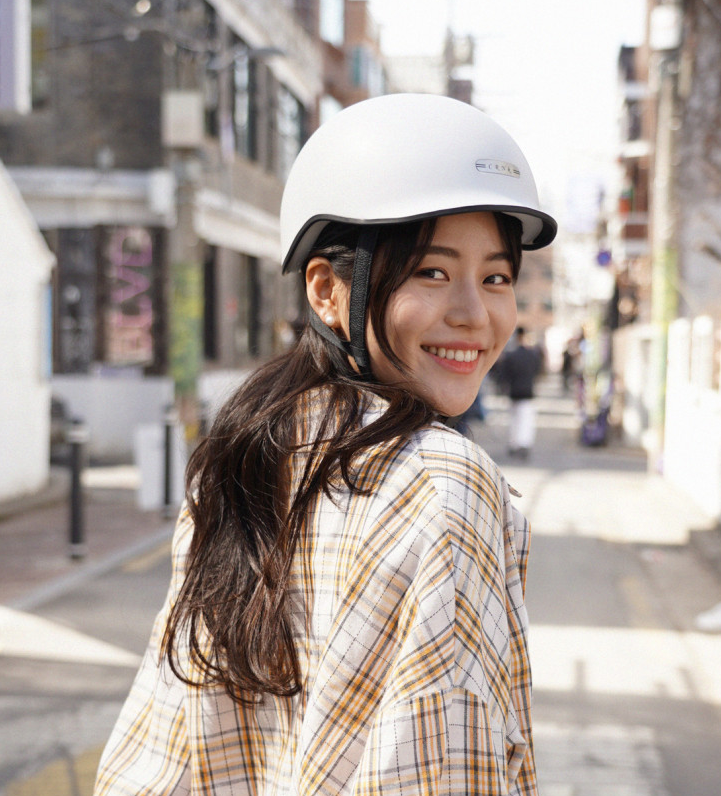with helmet: (273, 91, 565, 418)
